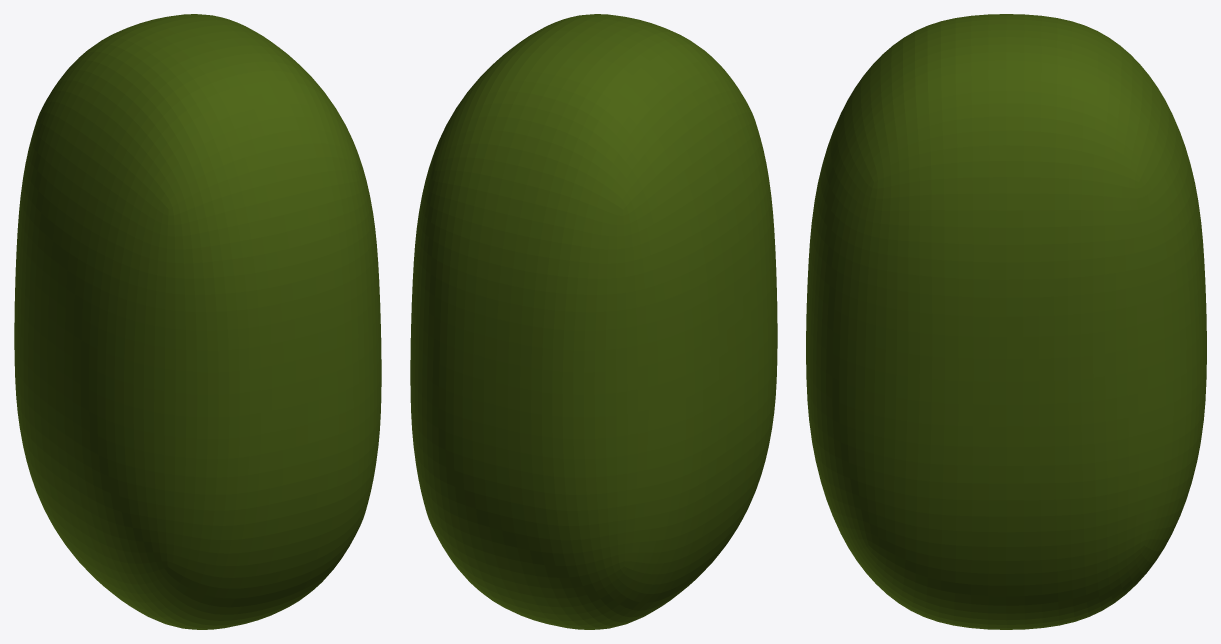
File: Mango.fbx
3 views of the same model, side by side, from view 1: azimuth 30°, elevation 25°; view 2: azimuth 150°, elevation 25°; view 3: azimuth 270°, elevation 25° (orthographic). The views are drawn at different scales.
Visible parts, largest first — view 1: Cube; view 2: Cube; view 3: Cube.
Part boxes in pixels (left/top/right/bottom): Cube: left=14, top=14, right=381, bottom=629; Cube: left=410, top=14, right=777, bottom=629; Cube: left=806, top=14, right=1206, bottom=629.
Bounding box in the file's own units: 27.57 × 52.9 × 32.93.
